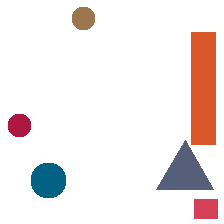circle: (31, 163, 65, 197), (8, 114, 30, 136), (72, 7, 94, 29)
rectangle: (191, 32, 215, 144), (194, 199, 217, 218)
triangle: (156, 140, 213, 189)
